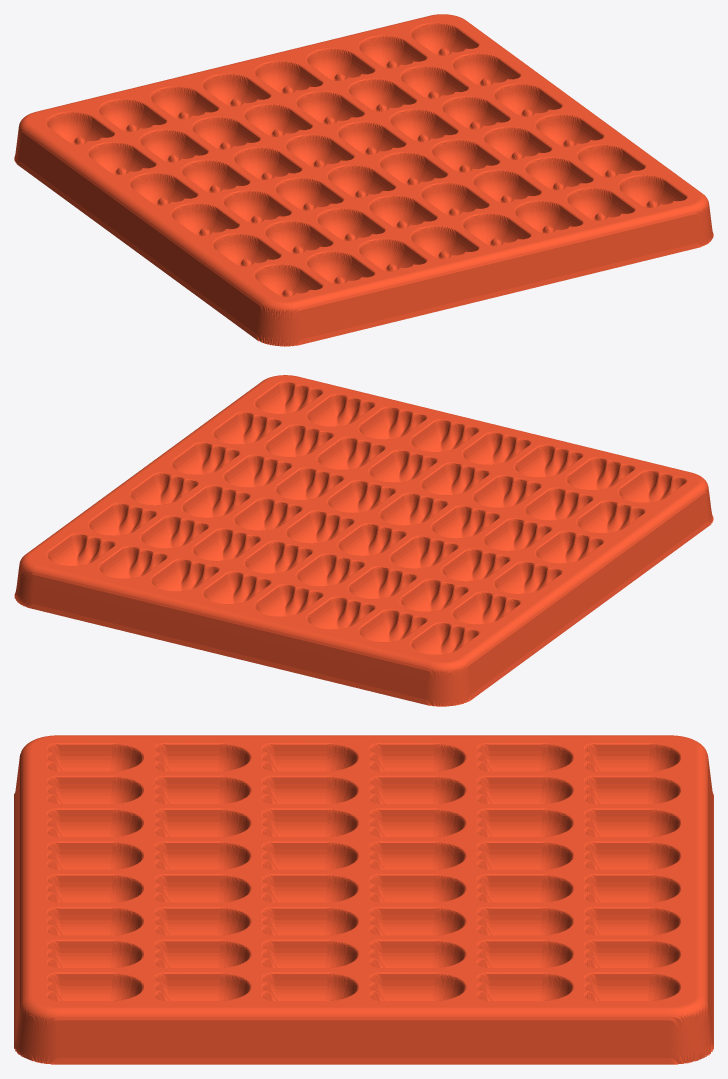
Rendered from mold.glb.
The picture shows the model from 3 angles, top to bottom: view 1: azimuth 30°, elevation 25°; view 2: azimuth 150°, elevation 25°; view 3: azimuth 270°, elevation 25°; orthographic projection. The views are drawn at different scales.
Parts seen in each view (by area): view 1: geometry_0; view 2: geometry_0; view 3: geometry_0.
Part boxes in pixels (box(x1,y1,x2,y2)): geometry_0: box(14, 14, 713, 346); geometry_0: box(14, 375, 713, 706); geometry_0: box(14, 735, 713, 1064).
Size of the model in its own units: 0.1394 by 0.0114 by 0.1443.
